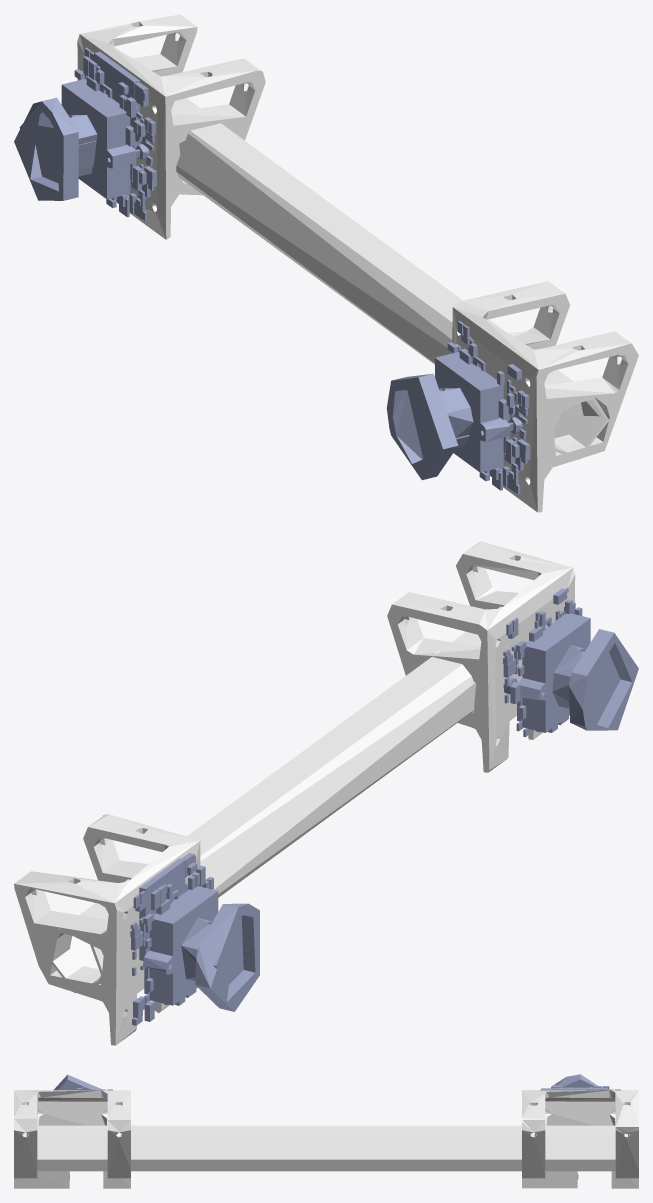
Rendered from stereo_camera.dae.
The picture shows the model from 3 angles, top to bottom: view 1: azimuth 30°, elevation 25°; view 2: azimuth 150°, elevation 25°; view 3: azimuth 270°, elevation 25°; orthographic projection. The views are drawn at different scales.
Parts seen in each view (by area): view 1: ShapeIndexedFaceSet_308; view 2: ShapeIndexedFaceSet_308; view 3: ShapeIndexedFaceSet_308.
Part boxes in pixels (<box>): ShapeIndexedFaceSet_308: <box>14,14,638,512</box>; ShapeIndexedFaceSet_308: <box>14,541,638,1045</box>; ShapeIndexedFaceSet_308: <box>14,1074,638,1188</box>.
Bounding box in the file's own units: 0.0464 × 0.2032 × 0.036.
